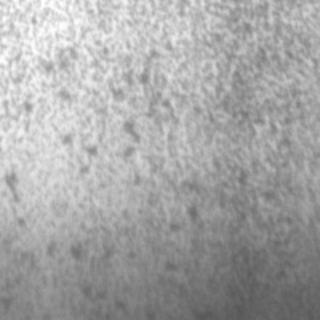pitted_surface: (19, 10, 315, 318)
